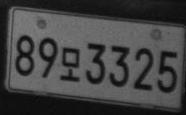2: (133, 46, 153, 91)
3: (107, 45, 129, 87), (85, 42, 106, 84)
5: (156, 50, 178, 93)
8: (13, 33, 35, 76)
9: (37, 36, 58, 78)
모: (60, 46, 80, 83)
